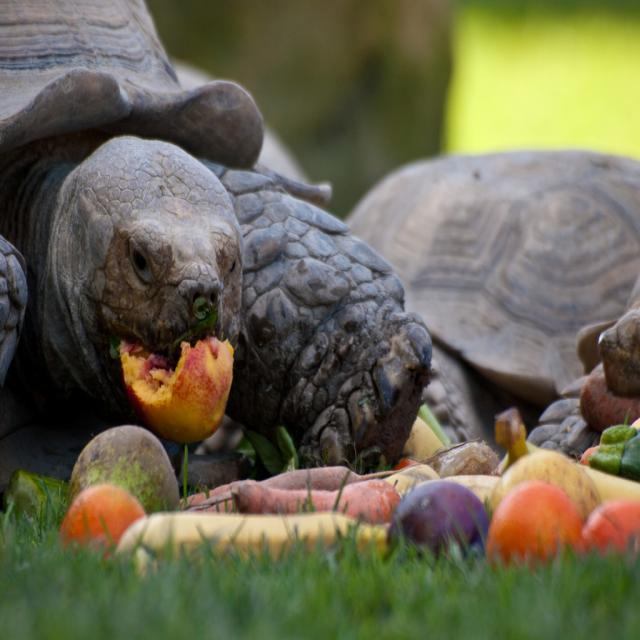Peach: (120, 335, 234, 445), (488, 449, 602, 524)
